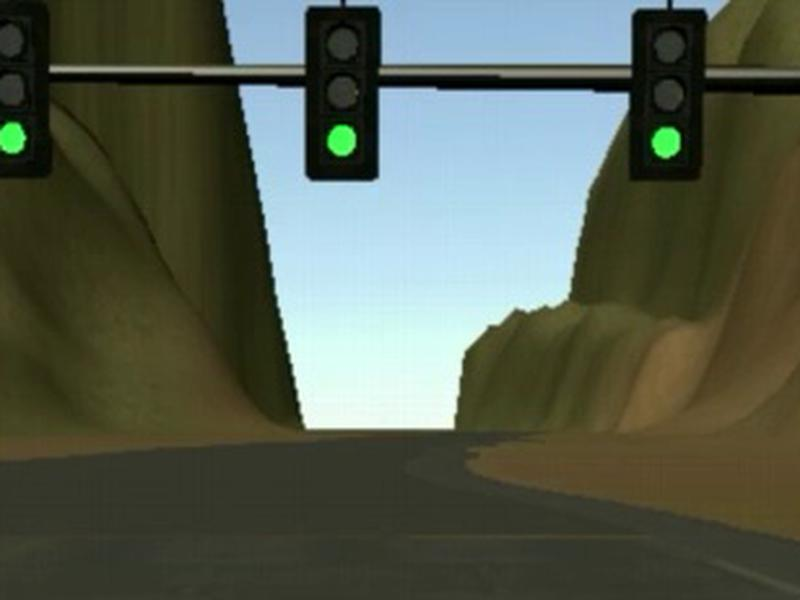Green: (305, 6, 381, 182), (630, 8, 706, 181), (1, 1, 51, 177)
